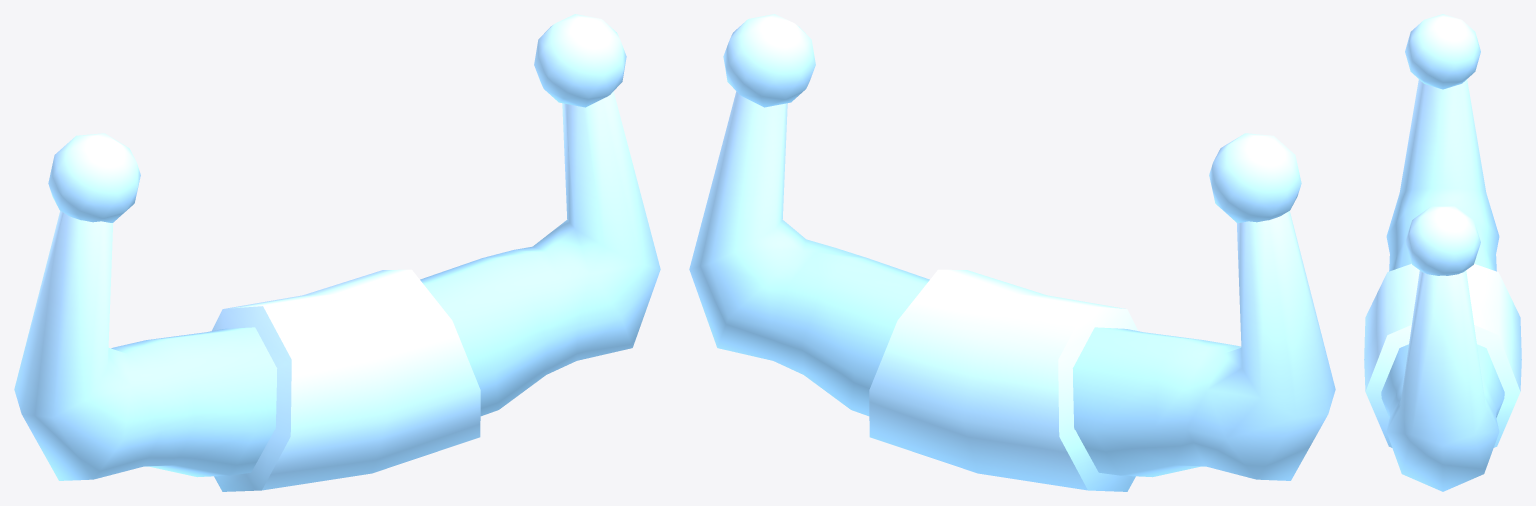
Rendered from steel_guard_046.glb.
3 renders of one model, left to right at view 1: azimuth 30°, elevation 25°; view 2: azimuth 150°, elevation 25°; view 3: azimuth 270°, elevation 25°, orthographic. The views are drawn at different scales.
Visible parts, largest first — view 1: steel_guard_046; view 2: steel_guard_046; view 3: steel_guard_046.
Part boxes in pixels (x1,y1,x2,y2): steel_guard_046: (14,14,660,491); steel_guard_046: (689,14,1335,491); steel_guard_046: (1364,14,1521,491).
Bounding box in the file's own units: 6.99 × 4.2 × 1.88.
Materials: 1 (1 with a texture image).
